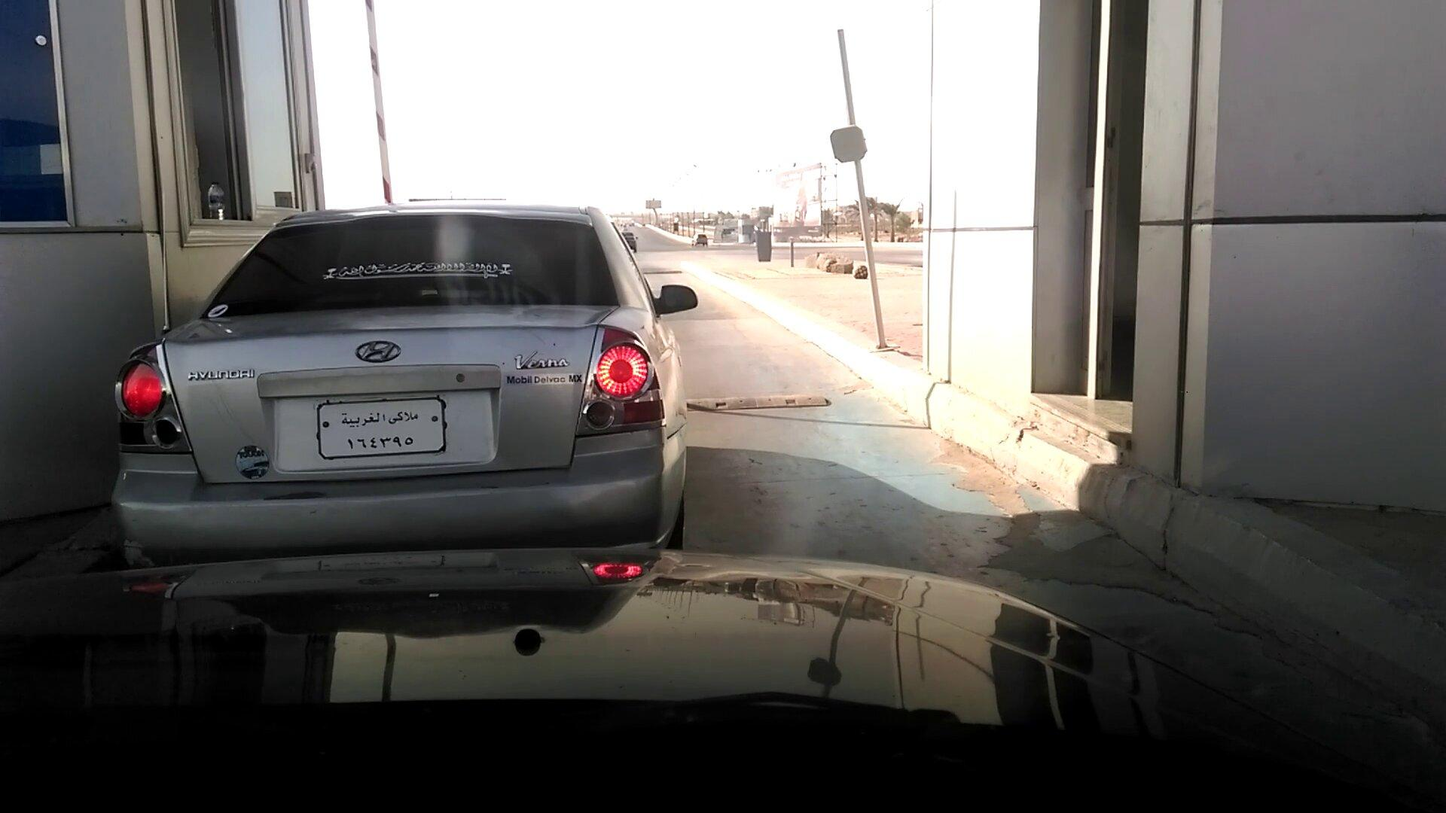Bump: (685, 391, 847, 420)
